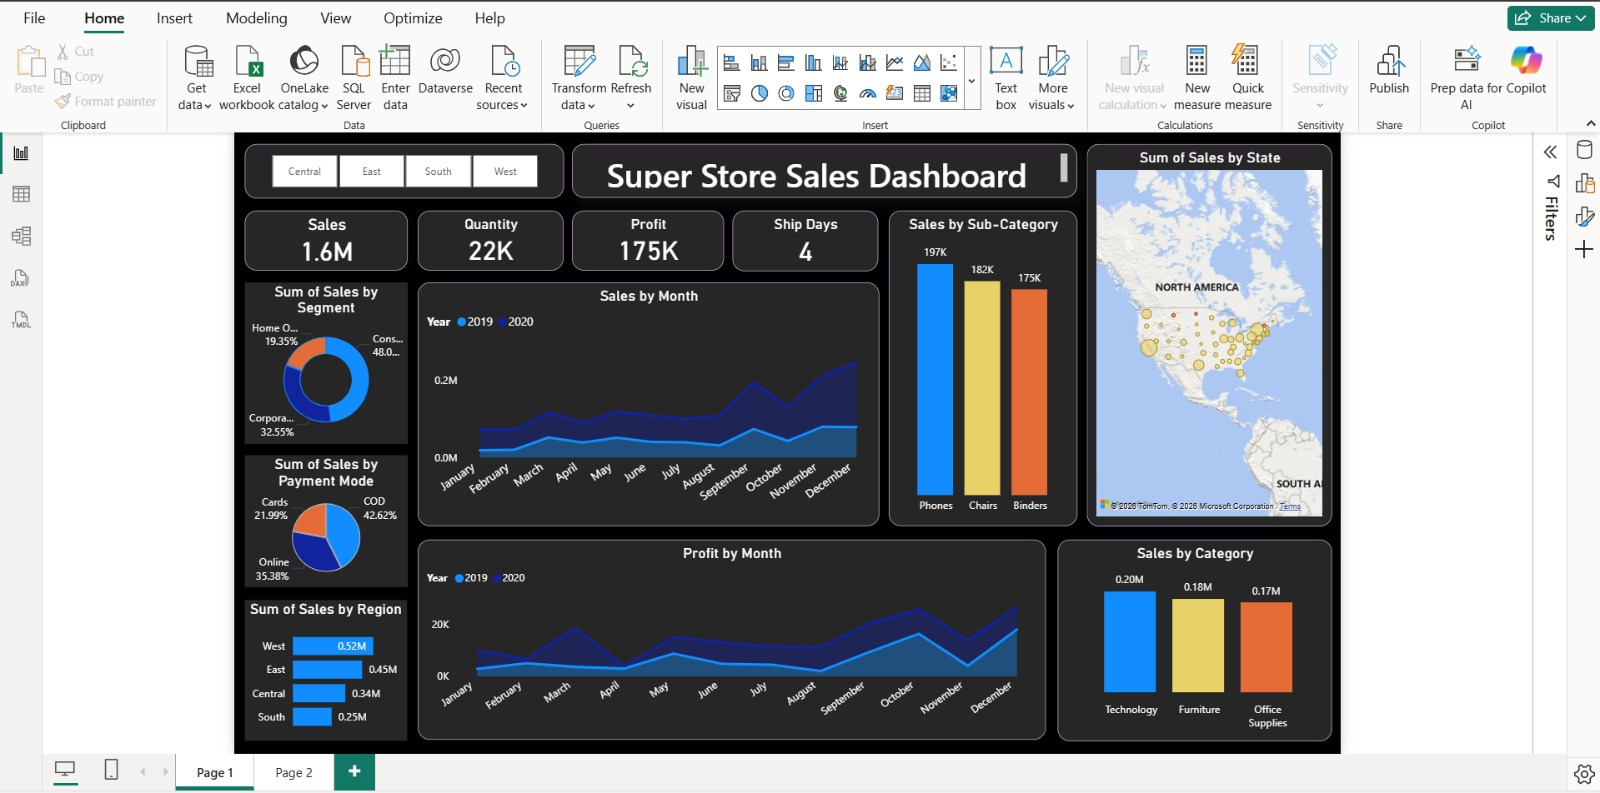

The dashboard page shown, as its layout file describes it:
{"tool":"powerbi","page":{"name":"Page 1","canvas":[1280,720],"ordinal":0},"visuals":[{"type":"clusteredColumnChart","title":" Sales by Sub-Category","fields":{"Category":["SuperStore_Sales_Dataset.Sub-Category"],"Y":["Sum(SuperStore_Sales_Dataset.Sales)"]},"box":[757.6,90.5,218.4,365.6],"z":1},{"type":"stackedAreaChart","title":"Sales by Month","fields":{"Category":["SuperStore_Sales_Dataset.Order Date.Variation.Date Hierarchy.Month"],"Series":["SuperStore_Sales_Dataset.Order Date.Variation.Date Hierarchy.Year"],"Y":["Sum(SuperStore_Sales_Dataset.Sales)"]},"box":[212.3,173.7,534.5,282.3],"z":4},{"type":"stackedAreaChart","title":"Profit by Month","fields":{"Category":["SuperStore_Sales_Dataset.Order Date.Variation.Date Hierarchy.Month"],"Series":["SuperStore_Sales_Dataset.Order Date.Variation.Date Hierarchy.Year"],"Y":["Sum(SuperStore_Sales_Dataset.Profit)"]},"box":[212.1,471.8,727.2,232.3],"z":5},{"type":"map","fields":{"Category":["SuperStore_Sales_Dataset.State"],"Size":["Sum(SuperStore_Sales_Dataset.Sales)"]},"box":[986.8,13,284.2,442.9],"z":8},{"type":"donutChart","fields":{"Series":["SuperStore_Sales_Dataset.Segment"],"Y":["Sum(SuperStore_Sales_Dataset.Sales)"]},"box":[11.5,173.1,189,187.6],"z":10},{"type":"pieChart","fields":{"Category":["SuperStore_Sales_Dataset.Payment Mode"],"Y":["Sum(SuperStore_Sales_Dataset.Sales)"]},"box":[11.5,373.7,189,152.9],"z":11},{"type":"slicer","fields":{"Values":["SuperStore_Sales_Dataset.Region"]},"box":[11.5,13,369.3,63.5],"z":12},{"type":"textbox","box":[390.9,13.3,585.1,62.7],"z":13},{"type":"card","title":"Sales","fields":{"Values":["Sum(SuperStore_Sales_Dataset.Sales)"]},"box":[11.5,90.9,189,69.3],"z":14},{"type":"card","title":"Quantity","fields":{"Values":["Sum(SuperStore_Sales_Dataset.Quantity)"]},"box":[212.1,90.9,168.8,69.3],"z":15},{"type":"card","title":"Profit","fields":{"Values":["Sum(SuperStore_Sales_Dataset.Profit)"]},"box":[391,90.9,176,69.3],"z":16},{"type":"card","title":"Ship Days","fields":{"Values":["Avg(SuperStore_Sales_Dataset.AvgDelivery)"]},"box":[577.1,90.9,168.8,70.7],"z":17},{"type":"clusteredBarChart","fields":{"Category":["SuperStore_Sales_Dataset.Region"],"Y":["Sum(SuperStore_Sales_Dataset.Sales)"]},"box":[12.1,541.7,188.2,162.9],"z":18},{"type":"clusteredColumnChart","title":" Sales by Category","fields":{"Category":["SuperStore_Sales_Dataset.Category"],"Y":["Sum(SuperStore_Sales_Dataset.Sales)"]},"box":[953.7,471.8,317.4,233.7],"z":19}]}

Visuals, with their boxes on the page's 1280x720 design canvas (x1, y1, x2, y2). These are canvas units, not pixel positions in the 1600x793 screenshot, which may show the page scaled, cropped or inside an application window:
" Sales by Sub-Category" clusteredColumnChart: BBox(758, 90, 976, 456)
"Sales by Month" stackedAreaChart: BBox(212, 174, 747, 456)
"Profit by Month" stackedAreaChart: BBox(212, 472, 939, 704)
map - SuperStore_Sales_Dataset.State x Sum(SuperStore_Sales_Dataset.Sales): BBox(987, 13, 1271, 456)
donutChart - SuperStore_Sales_Dataset.Segment x Sum(SuperStore_Sales_Dataset.Sales): BBox(12, 173, 200, 361)
pieChart - SuperStore_Sales_Dataset.Payment Mode x Sum(SuperStore_Sales_Dataset.Sales): BBox(12, 374, 200, 527)
slicer - SuperStore_Sales_Dataset.Region: BBox(12, 13, 381, 76)
textbox: BBox(391, 13, 976, 76)
"Sales" card: BBox(12, 91, 200, 160)
"Quantity" card: BBox(212, 91, 381, 160)
"Profit" card: BBox(391, 91, 567, 160)
"Ship Days" card: BBox(577, 91, 746, 162)
clusteredBarChart - SuperStore_Sales_Dataset.Region x Sum(SuperStore_Sales_Dataset.Sales): BBox(12, 542, 200, 705)
" Sales by Category" clusteredColumnChart: BBox(954, 472, 1271, 706)
